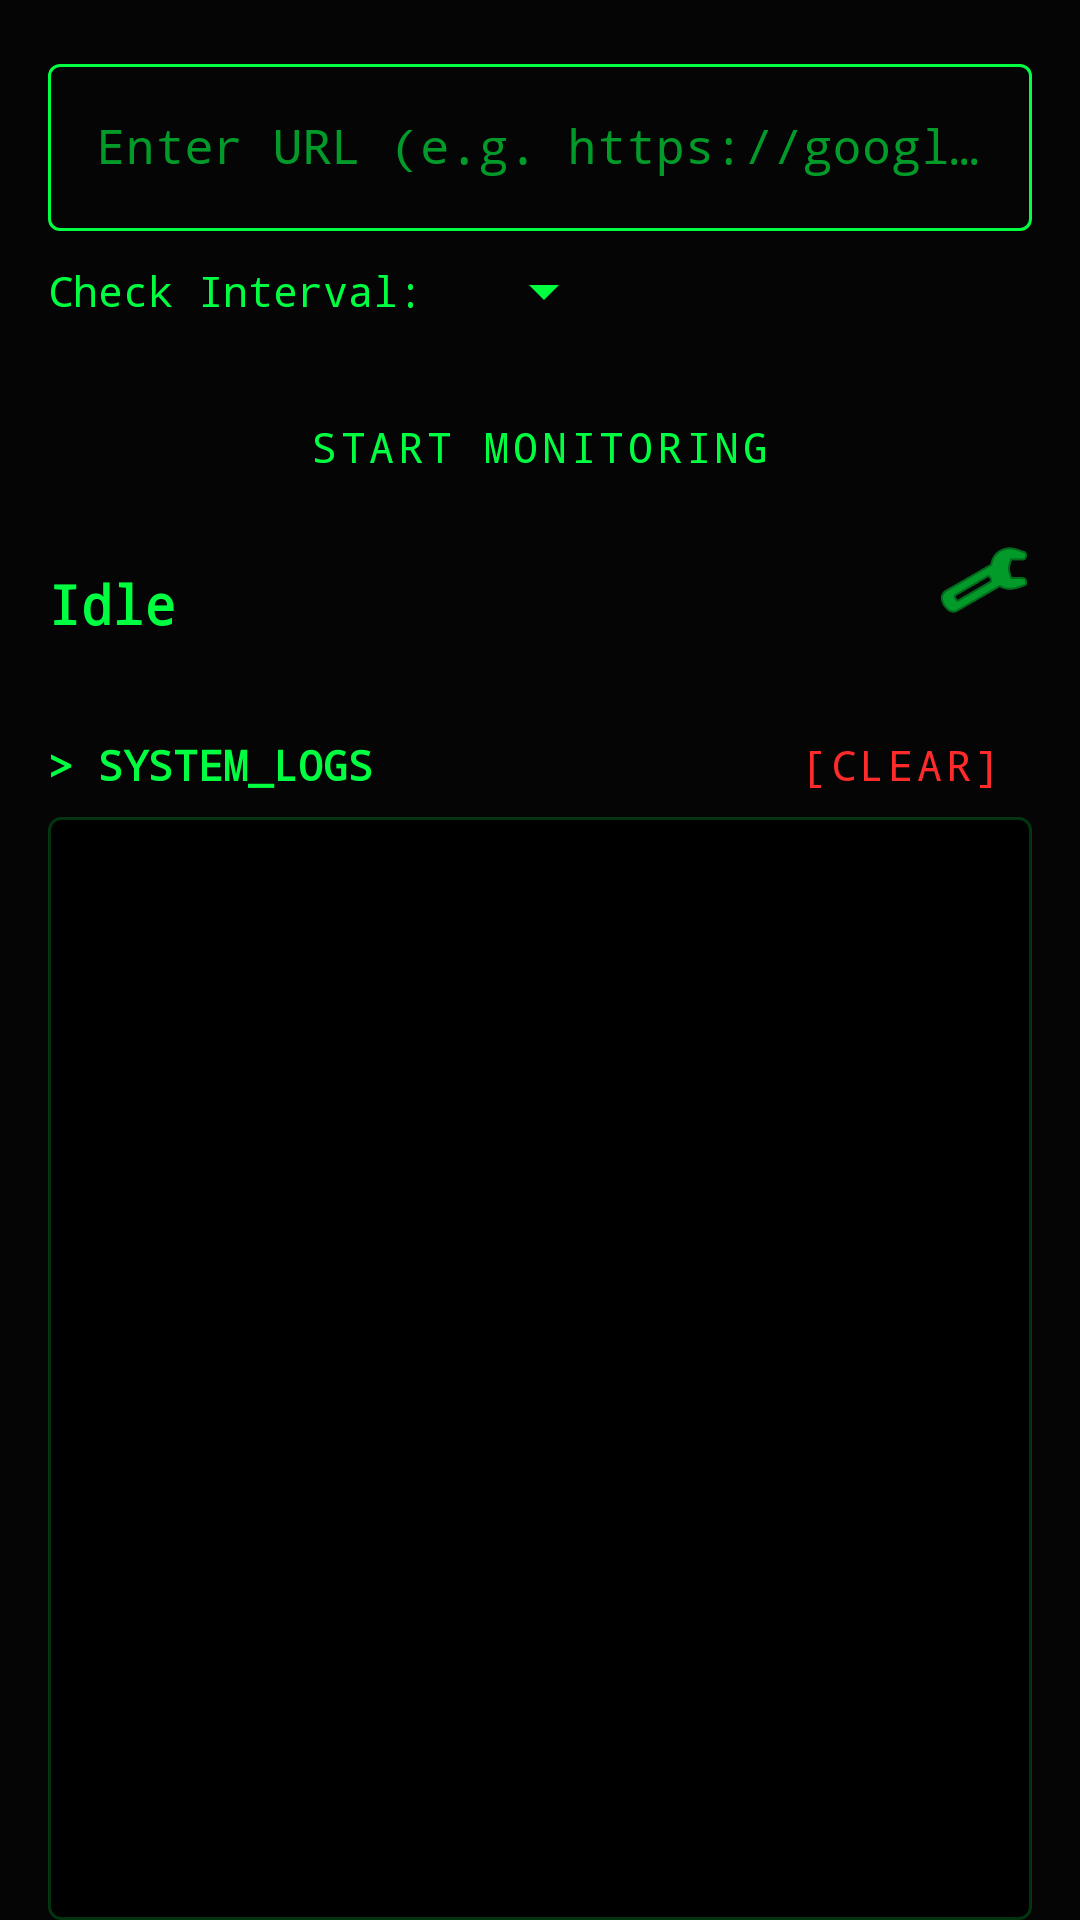

Point at icon controls on the screen. Image size 1080 x 1920, points as [x,y].
Settings: [984,580]
